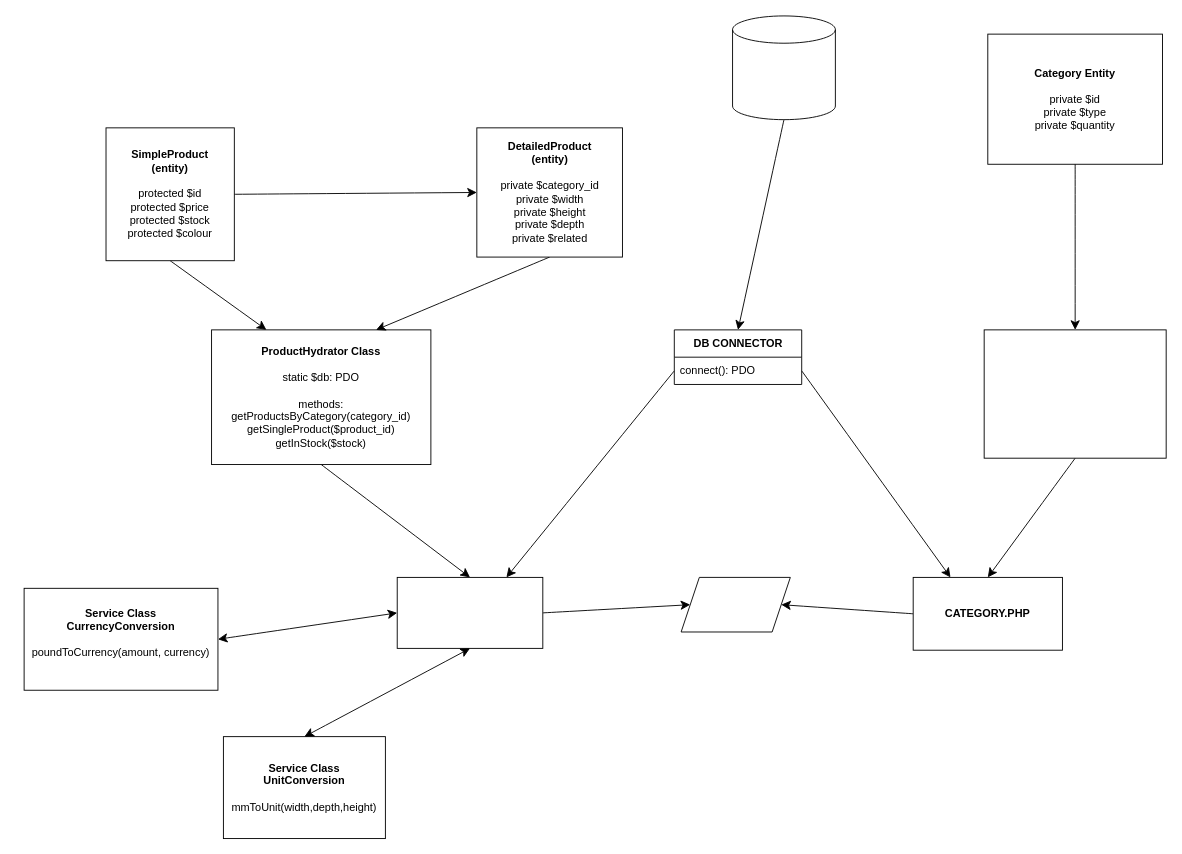
Image size: 1182x854. Some labels were removed from this diagram. Each missing label, with the centre of its shape:
"CategoryHydrator static $db: PDO methods getCategory(category_id)" belongs at (1074,393).
"DATABASE" belongs at (783,67).
"JSON Outputs" belongs at (735,604).
"PRODUCTS.PHP" belongs at (469,612).
